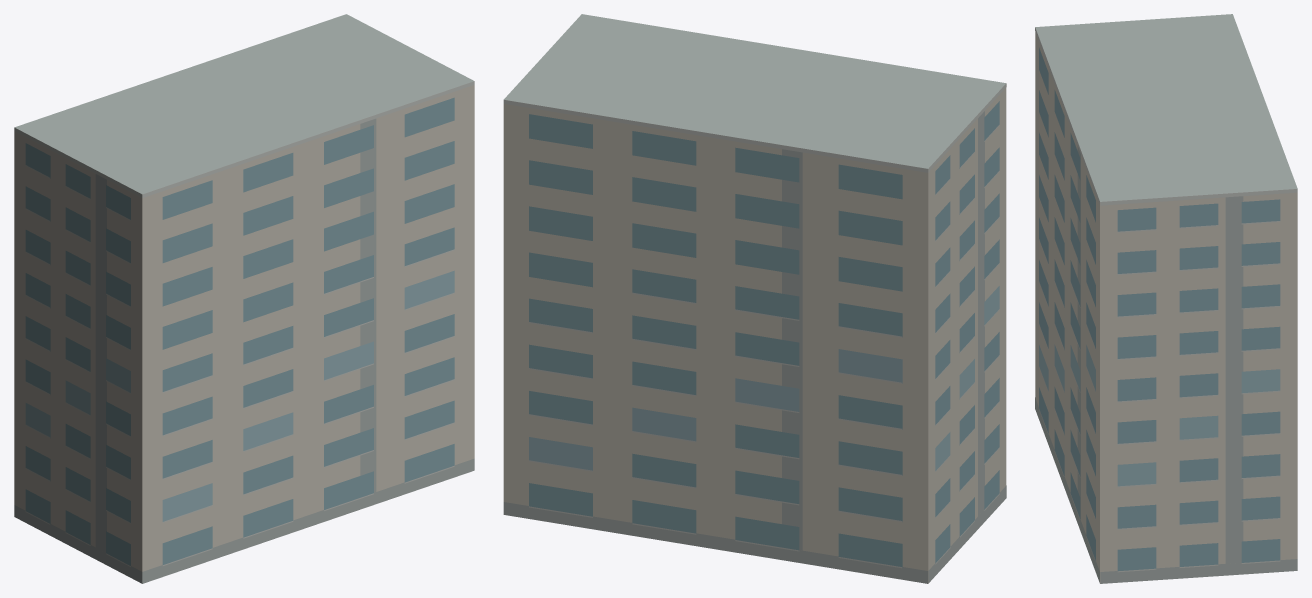
The model's file is residential-cfe25400-d6d5-4963-bc22-2c8a79c30d59.glb.
The picture shows the model from 3 angles, left to right: view 1: azimuth 30°, elevation 25°; view 2: azimuth 150°, elevation 25°; view 3: azimuth 270°, elevation 25°; orthographic projection. The views are drawn at different scales.
Parts seen in each view (by area): view 1: residential-cfe25400-d6d5-4963-bc22-2c8a79c30d59.tmp; view 2: residential-cfe25400-d6d5-4963-bc22-2c8a79c30d59.tmp; view 3: residential-cfe25400-d6d5-4963-bc22-2c8a79c30d59.tmp.
Part boxes in pixels (x1=…): residential-cfe25400-d6d5-4963-bc22-2c8a79c30d59.tmp: x1=14, y1=14, x2=474, y2=583; residential-cfe25400-d6d5-4963-bc22-2c8a79c30d59.tmp: x1=503, y1=14, x2=1006, y2=583; residential-cfe25400-d6d5-4963-bc22-2c8a79c30d59.tmp: x1=1035, y1=14, x2=1297, y2=583.
Bounding box in the file's own units: 26.39 × 25 × 15.59.
